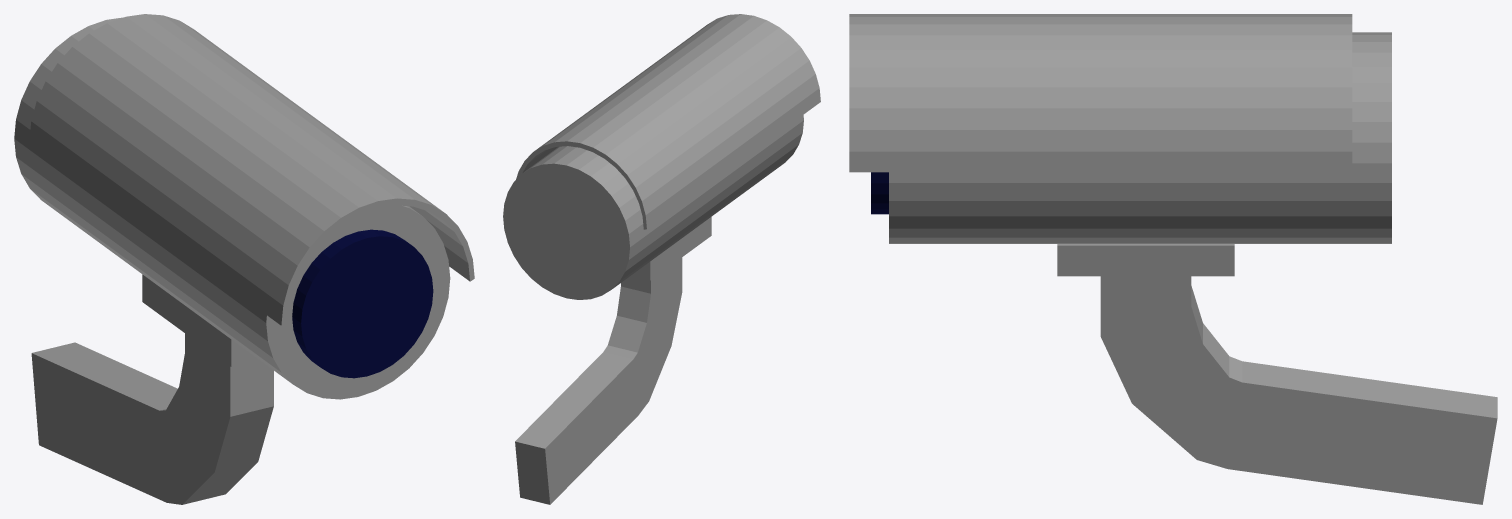
Rendered from CCTV.fbx.
3 views of the same model, side by side, from view 1: azimuth 30°, elevation 25°; view 2: azimuth 150°, elevation 25°; view 3: azimuth 270°, elevation 25° (orthographic). The views are drawn at different scales.
Visible parts, largest first — view 1: Cylinder, Cube; view 2: Cylinder, Cube; view 3: Cylinder, Cube.
Boxes of the visible parts, x1,y1,x2,y2 form: Cylinder: (14, 14, 474, 399); Cube: (31, 274, 273, 504); Cylinder: (503, 14, 820, 299); Cube: (515, 217, 711, 504); Cylinder: (849, 14, 1391, 243); Cube: (1057, 244, 1497, 504).
Size of the model in its own units: 126 by 293 by 366.
